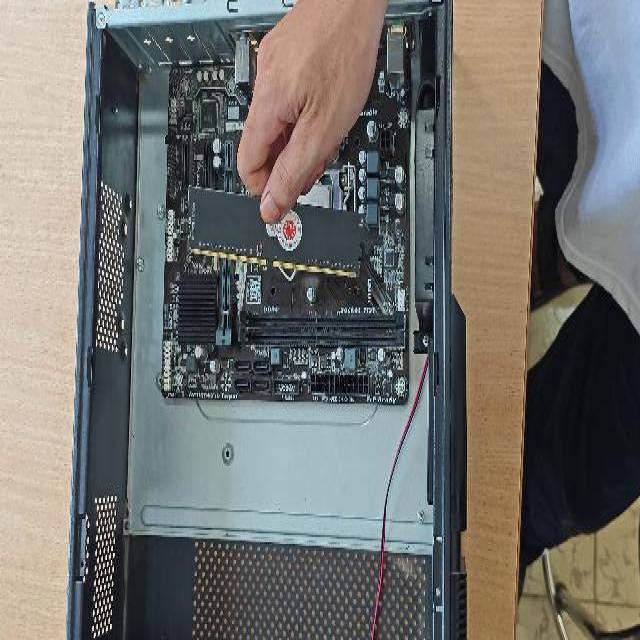Mainboard: (157, 63, 410, 405)
RAM: (186, 180, 364, 282)
